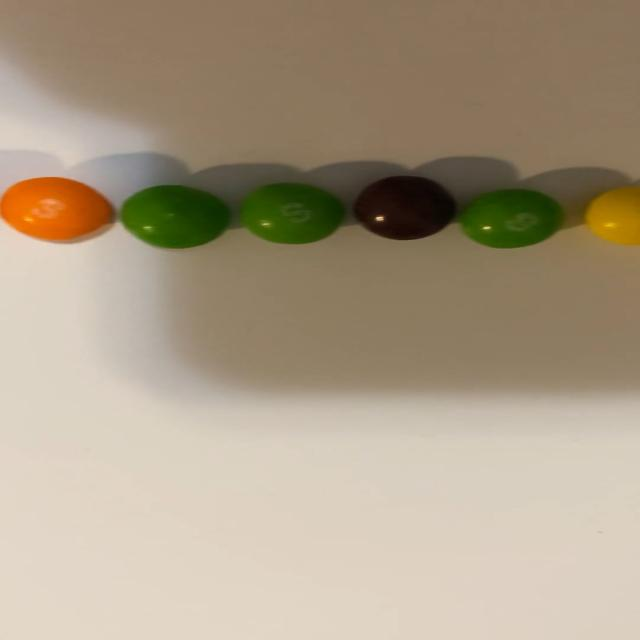smartie: (1, 177, 111, 240), (121, 185, 228, 248), (355, 176, 455, 239), (241, 183, 343, 244), (462, 189, 564, 248), (586, 187, 640, 244)
